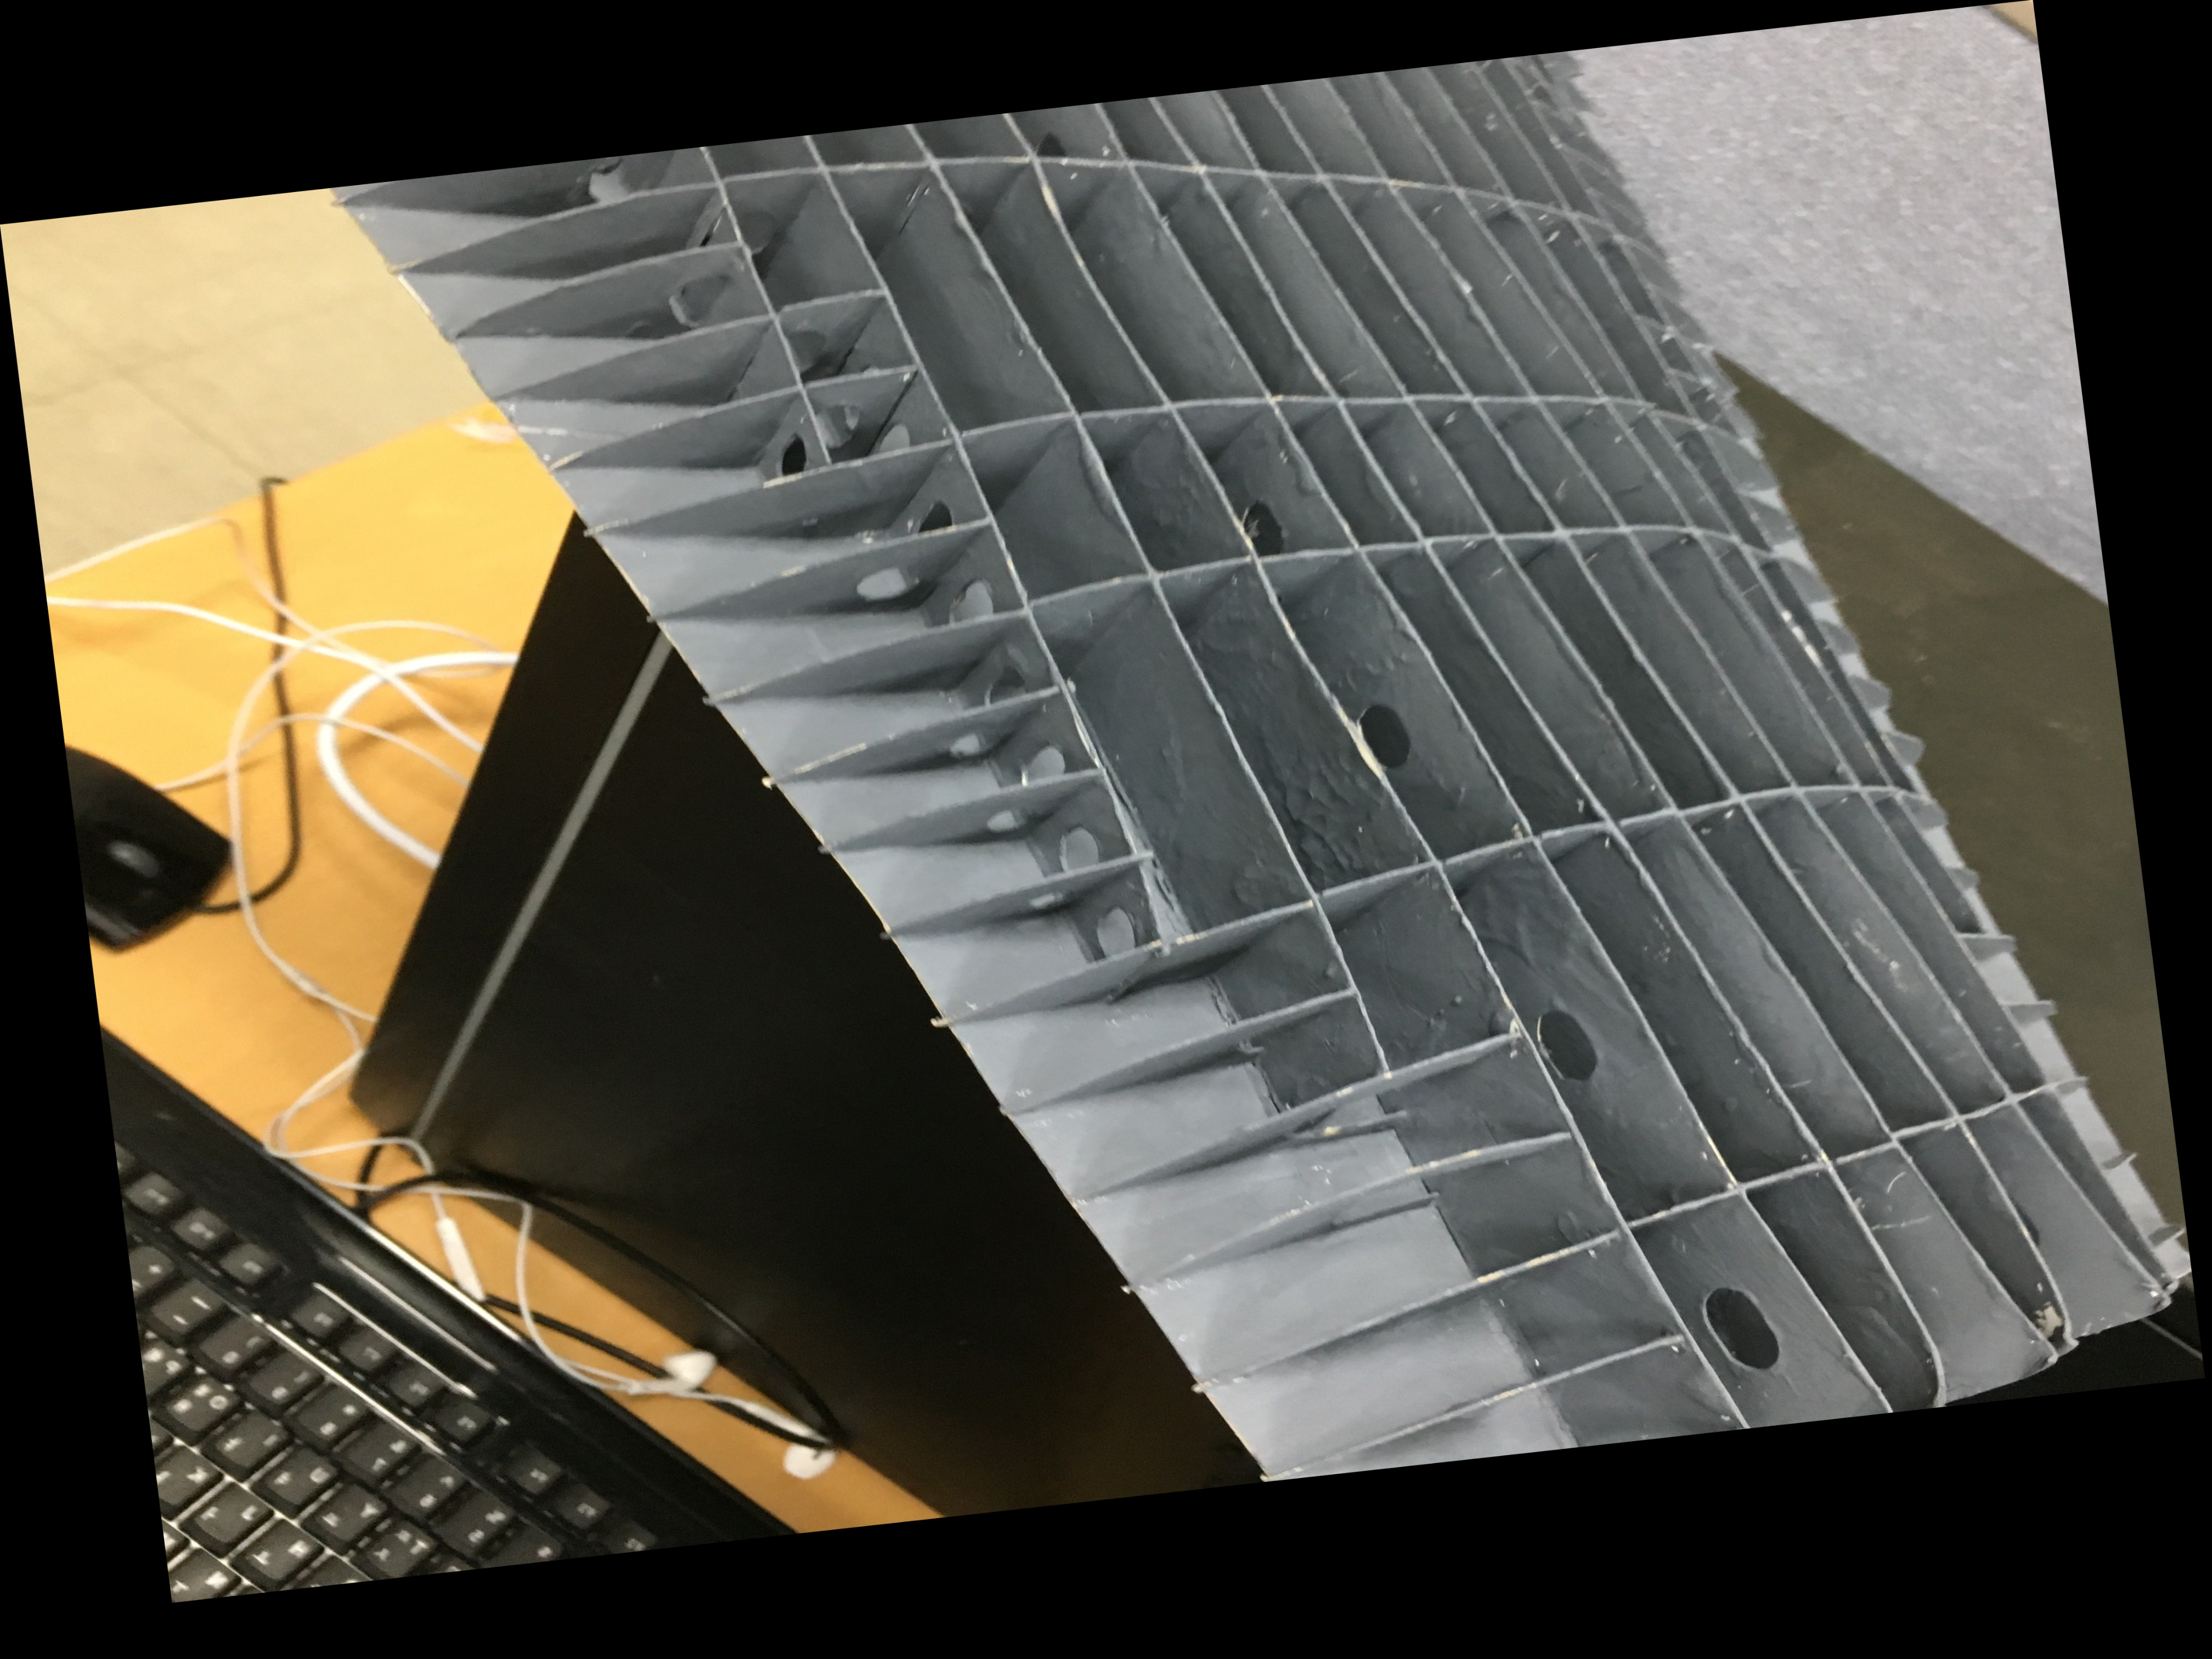B: (336, 9, 2205, 1565)
